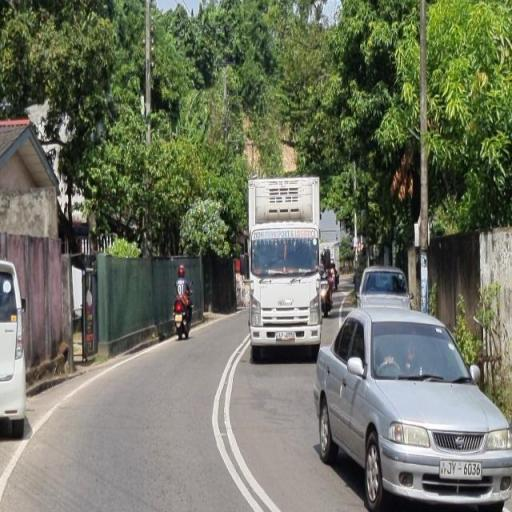double_white_line: (211, 328, 281, 511)
